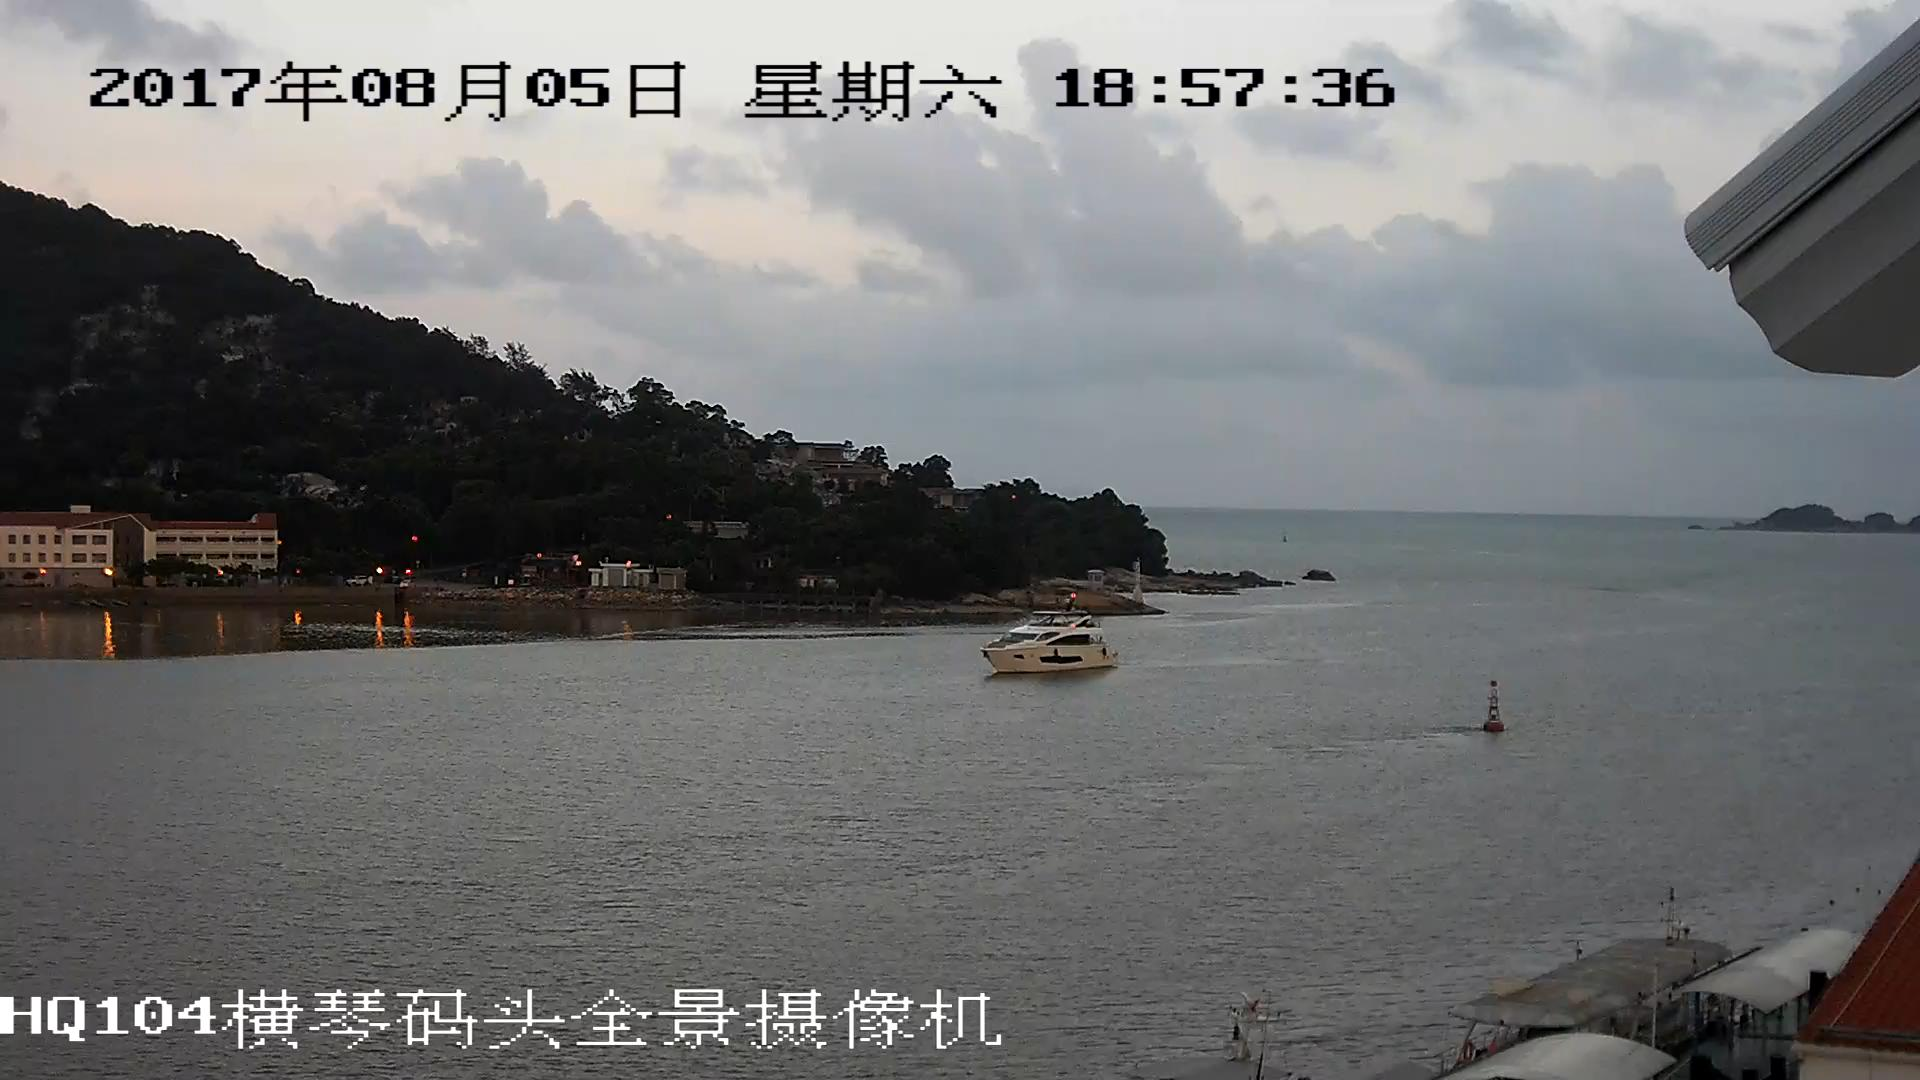passenger ship: (979, 611, 1116, 674)
